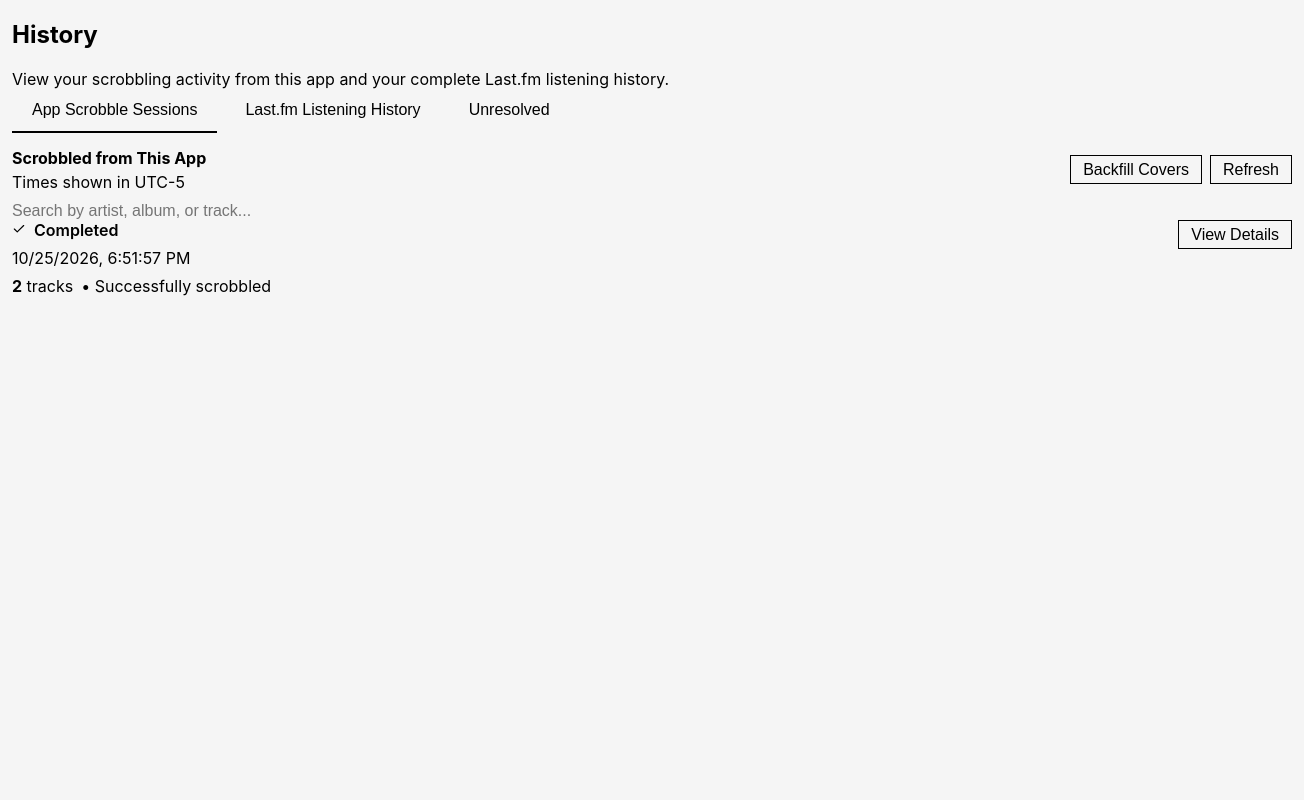
HistoryPage › Session Details › allows viewing session details
The image size is (1304, 800).
expect the button "View Details" is shown: met, box [1191, 225, 1279, 244]
Click the button "View Details". click: point(1235, 234)
box: [1178, 220, 1292, 249]
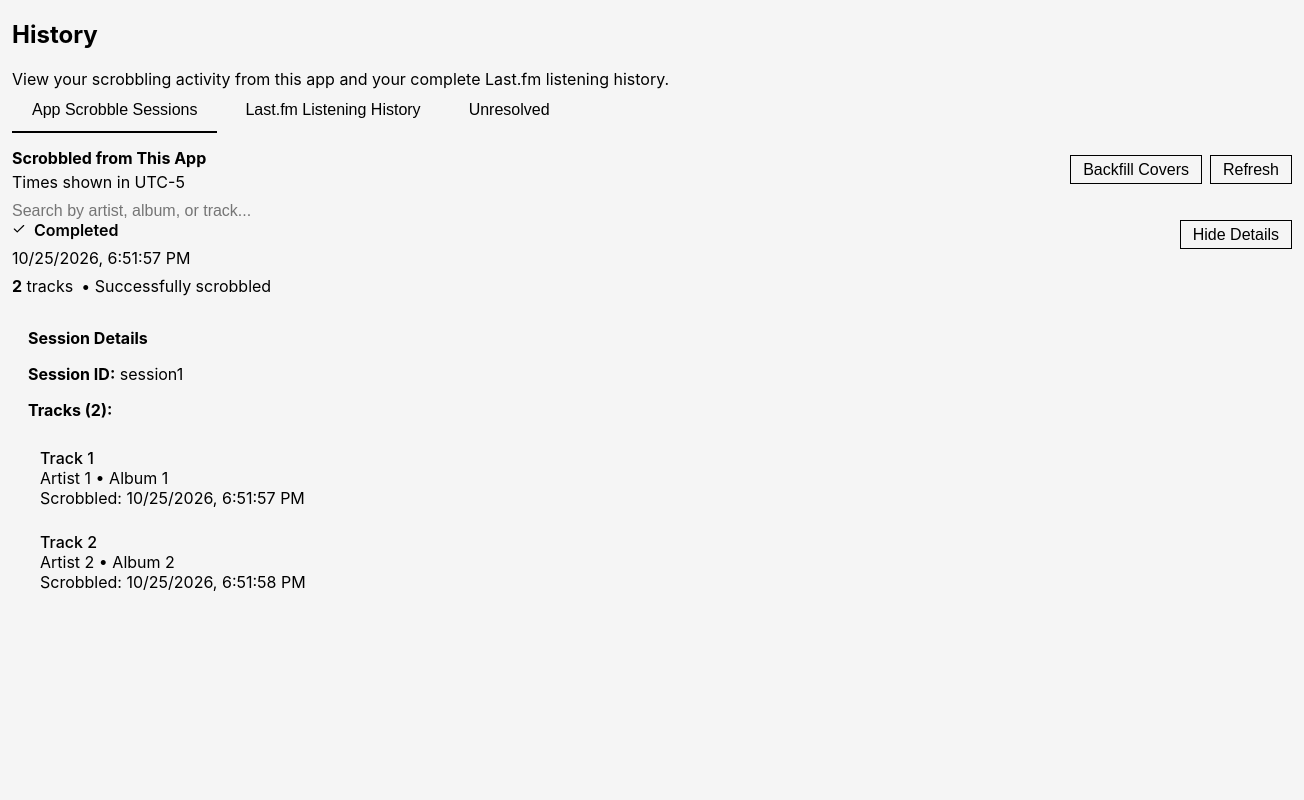
expect the heading "Session Details" is shown: met, box [28, 328, 148, 348]
expect the text "Session ID:" is shown: met, box [28, 364, 115, 384]
expect the text "session1" is shown: met, box [120, 364, 183, 384]
